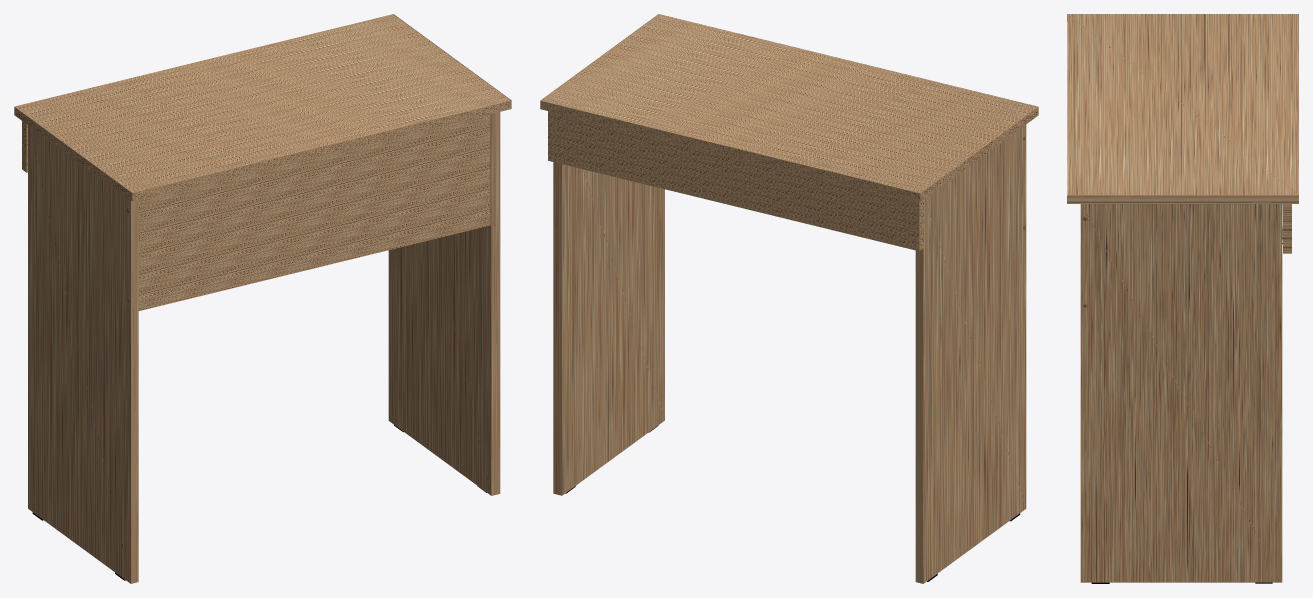
File: loft-minni-graphite.glb
3 renders of one model, left to right at view 1: azimuth 30°, elevation 25°; view 2: azimuth 150°, elevation 25°; view 3: azimuth 270°, elevation 25°, orthographic. The views are drawn at different scales.
Parts seen in each view (by area): view 1: Cube; view 2: Cube; view 3: Cube.
Boxes of the visible parts, left/top/right/bottom form: Cube: left=14, top=14, right=511, bottom=583; Cube: left=540, top=14, right=1038, bottom=583; Cube: left=1067, top=14, right=1298, bottom=582.
Bounding box in the file's own units: 15 × 15.07 × 8.09.
5 materials, 5 textured.
